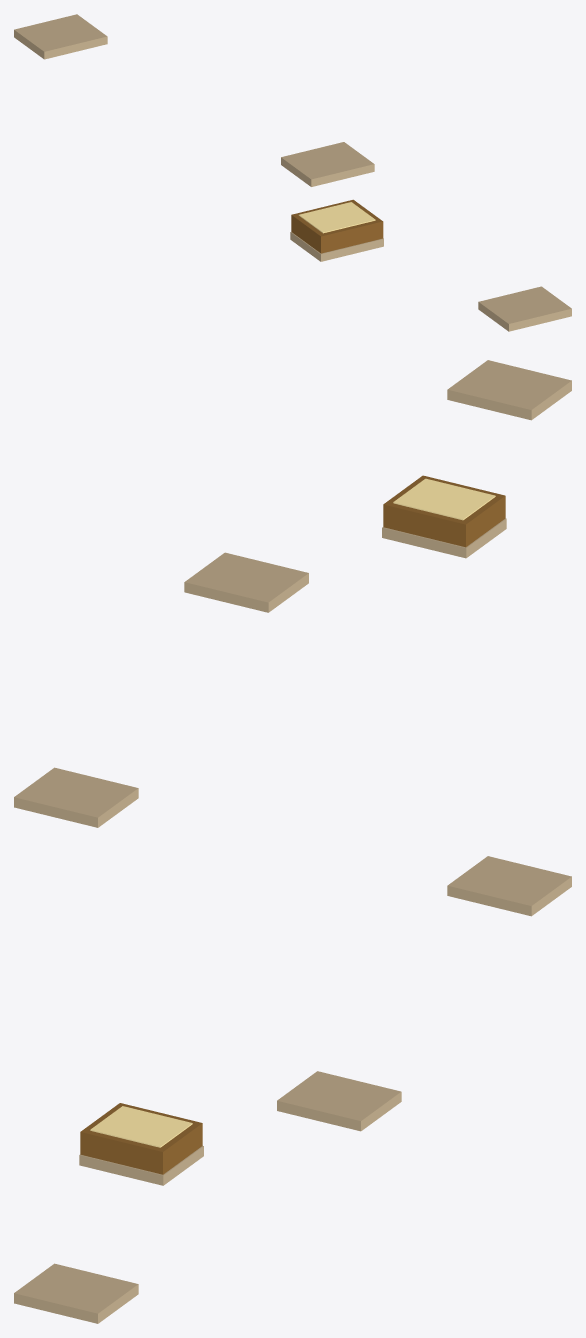
The model's file is SM_CargaViveres_Vacio_LOD1.fbx.
3 views of the same model, one above another, from view 1: azimuth 30°, elevation 25°; view 2: azimuth 150°, elevation 25°; view 3: azimuth 330°, elevation 25° (orthographic). The views are drawn at different scales.
Visible parts, largest first — view 1: SM_carga_vagon_v17_LOD1; view 2: SM_carga_vagon_v17_LOD1; view 3: SM_carga_vagon_v17_LOD1.
Boxes of the visible parts, x1=… form: SM_carga_vagon_v17_LOD1: x1=14, y1=14, x2=571, y2=331; SM_carga_vagon_v17_LOD1: x1=14, y1=360, x2=571, y2=827; SM_carga_vagon_v17_LOD1: x1=14, y1=856, x2=571, y2=1323.
Bounding box in the file's own units: 2.52 × 0.47 × 14.
